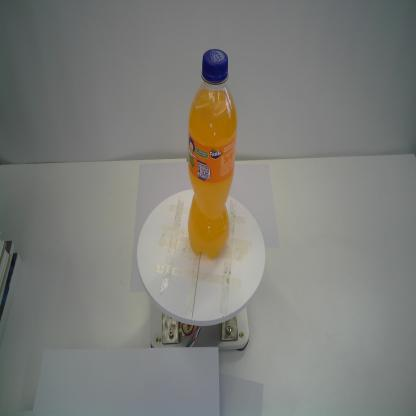Drink: (188, 47, 238, 261)
